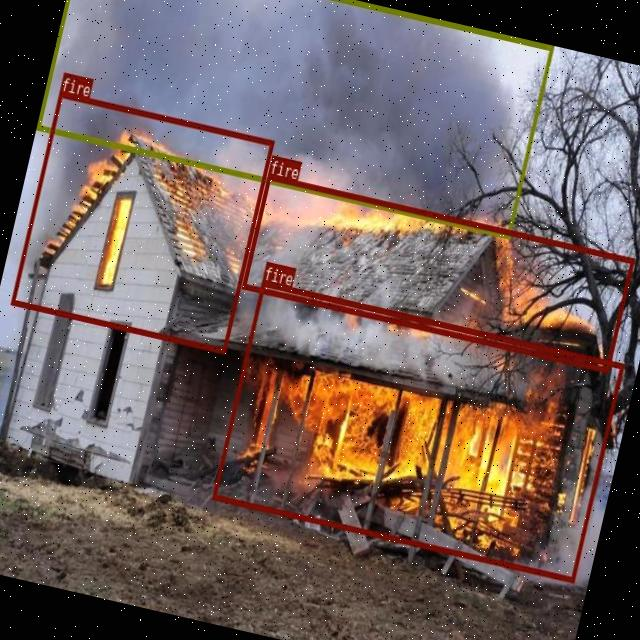fire: (211, 278, 624, 582), (241, 173, 635, 372), (10, 90, 274, 352)
smoke: (35, 0, 552, 238)
